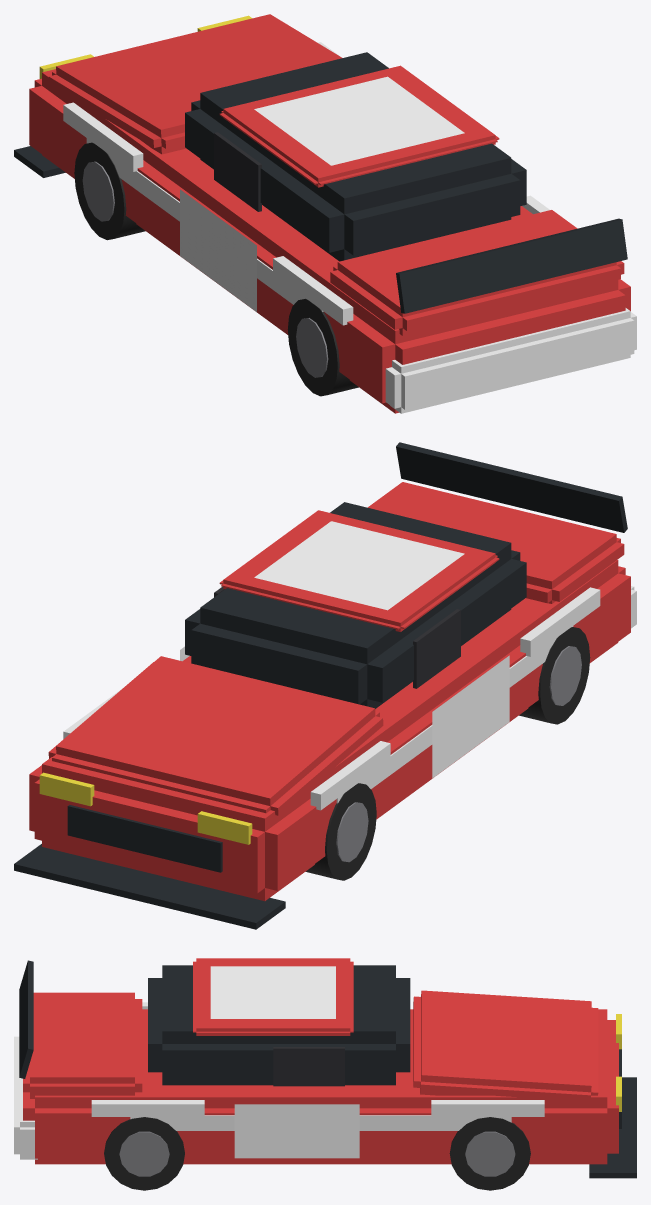
Rendered from stockcar.glb.
The picture shows the model from 3 angles, top to bottom: view 1: azimuth 30°, elevation 25°; view 2: azimuth 150°, elevation 25°; view 3: azimuth 270°, elevation 25°; orthographic projection. The views are drawn at different scales.
Visible parts, largest first — view 1: body, number, wheel_RL, wheel_FL; view 2: body, number, wheel_FL, wheel_RL; view 3: body, number, wheel_RR, wheel_FR.
Part boxes in pixels (x1,y1,x2,y2): body: (14, 14, 636, 413); number: (180, 76, 464, 311); wheel_RL: (287, 298, 358, 396); wheel_FL: (74, 142, 145, 240); body: (14, 442, 636, 929); number: (180, 521, 509, 778); wheel_FL: (305, 783, 376, 880); wheel_RL: (519, 627, 590, 724); body: (14, 958, 636, 1178); number: (210, 966, 359, 1158); wheel_RR: (104, 1117, 184, 1190); wheel_FR: (449, 1117, 530, 1190).
Size of the model in its own units: 2.02 by 1.37 by 5.23.
